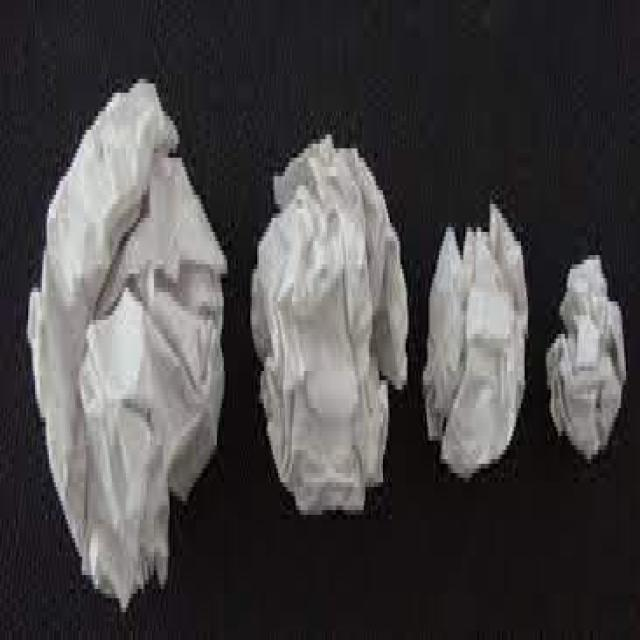PaperCardboard: (29, 84, 228, 599), (252, 141, 413, 496), (428, 204, 527, 465), (551, 258, 622, 467)
